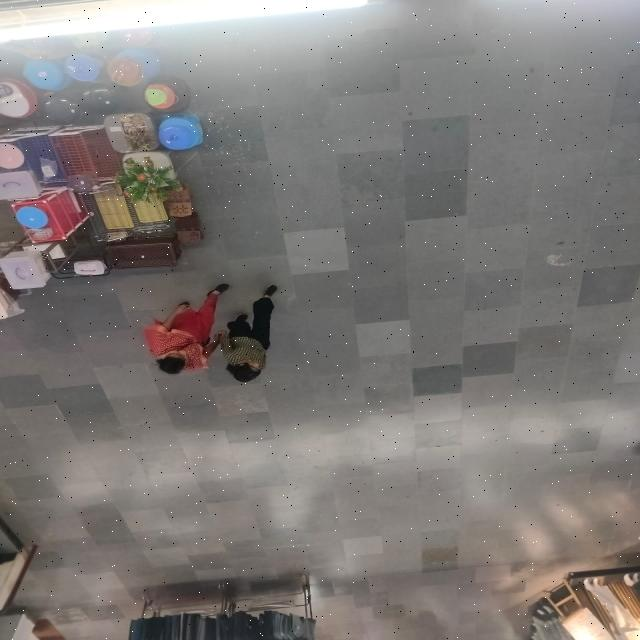humans: (144, 280, 224, 378), (223, 281, 284, 388)
